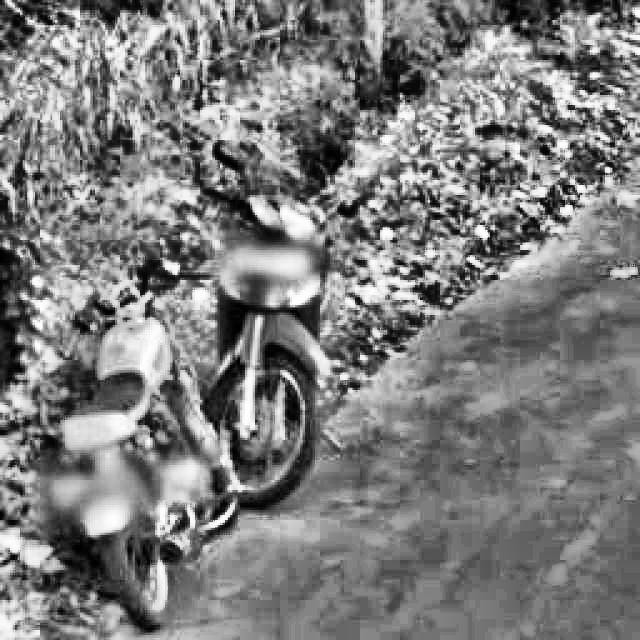motorcycle: (183, 134, 362, 506), (55, 246, 220, 636)
